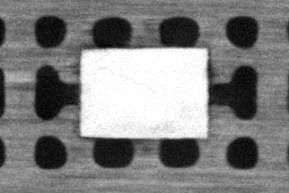DIE_CRACK: (101, 65, 158, 94)
